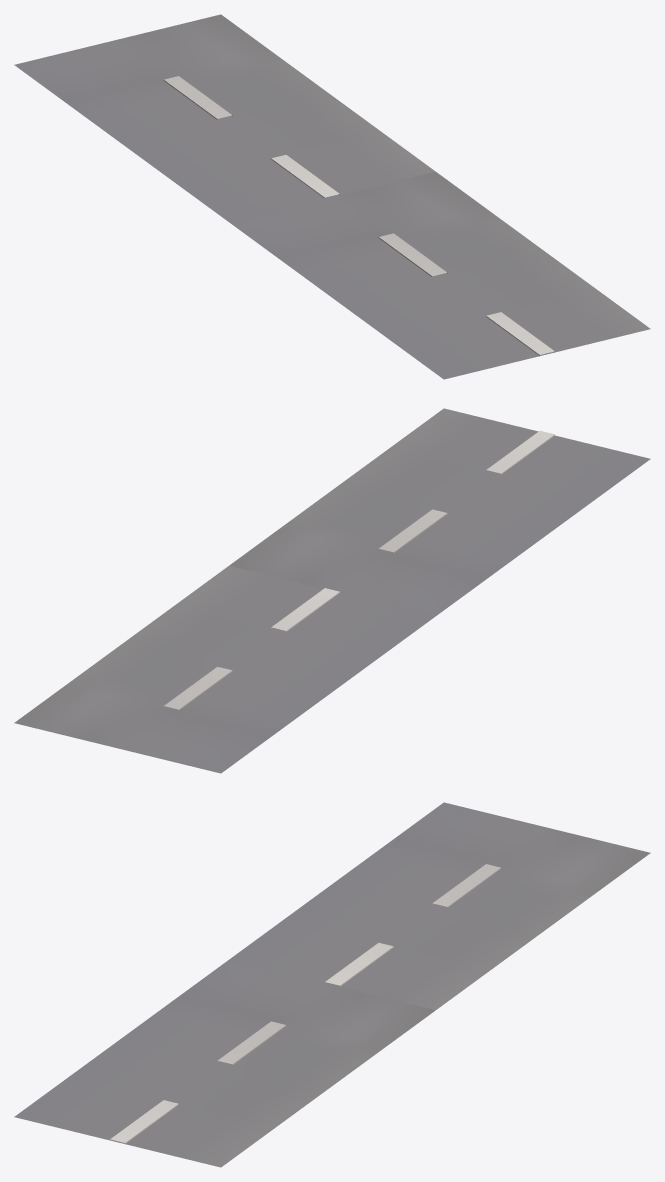
The model's file is AssetsFarmSideRoad.fbx.
The picture shows the model from 3 angles, top to bottom: view 1: azimuth 30°, elevation 25°; view 2: azimuth 150°, elevation 25°; view 3: azimuth 330°, elevation 25°; orthographic projection.
Parts seen in each view (by area): view 1: CanionGround.002; view 2: CanionGround.002; view 3: CanionGround.002.
Part boxes in pixels (x1,y1,x2,y2): CanionGround.002: (14,14,650,379); CanionGround.002: (14,408,650,773); CanionGround.002: (14,802,650,1167).
Size of the model in its own units: 4.64 by 0.0375 by 16.7.
